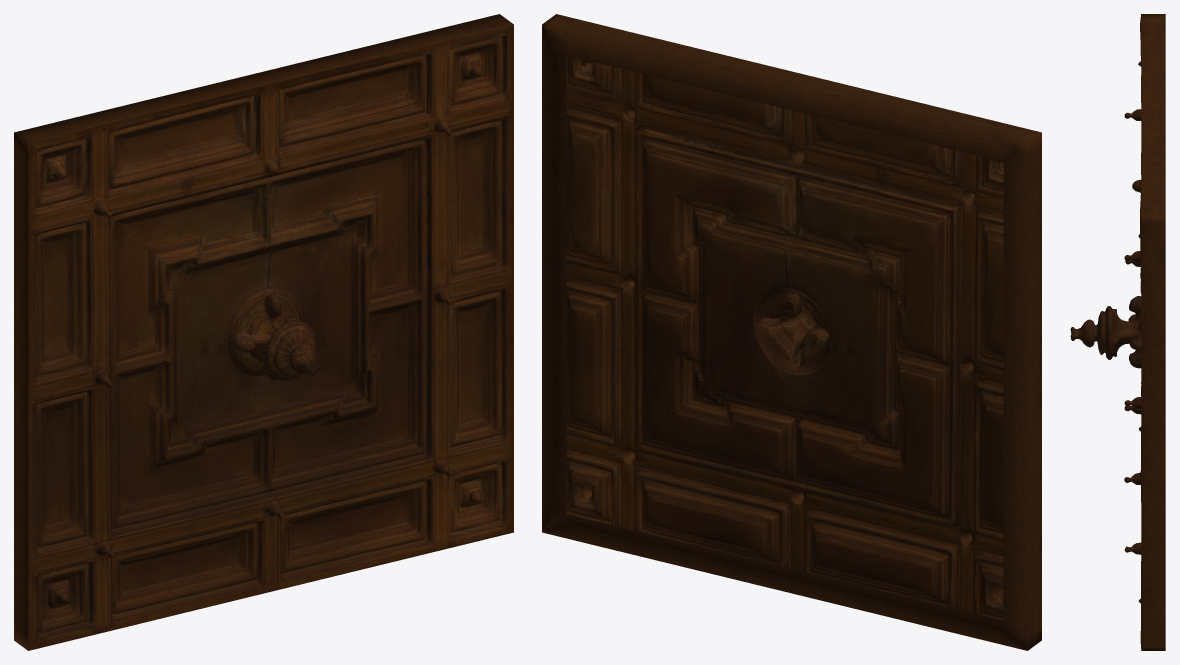
3 renders of one model, left to right at view 1: azimuth 30°, elevation 25°; view 2: azimuth 150°, elevation 25°; view 3: azimuth 270°, elevation 25°, orthographic. The views are drawn at different scales.
Visible parts, largest first — view 1: modular_wall_6; view 2: modular_wall_6; view 3: modular_wall_6.
Boxes of the visible parts, x1=… form: modular_wall_6: x1=14, y1=14, x2=513, y2=650; modular_wall_6: x1=542, y1=14, x2=1041, y2=650; modular_wall_6: x1=1070, y1=14, x2=1165, y2=650.
Bounding box in the file's own units: 4 × 4 × 0.7941.
Materials: 1 (1 with a texture image).
